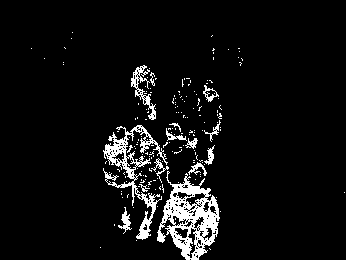person: (133, 127, 165, 240), (104, 123, 136, 232), (161, 119, 198, 206), (197, 78, 221, 168), (174, 73, 196, 150), (131, 63, 157, 123)
w: (160, 165, 221, 259)
